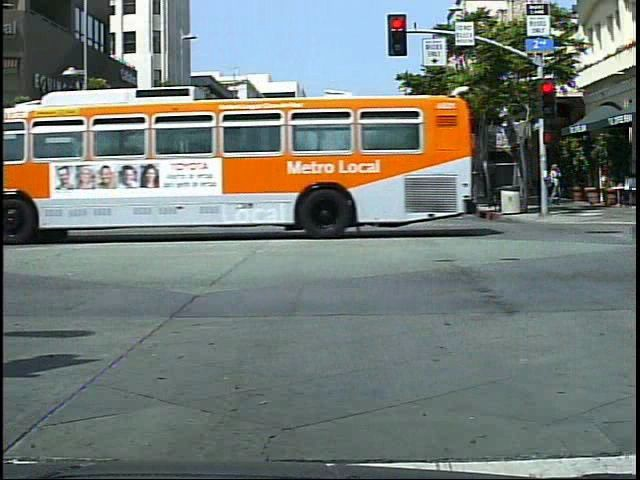person: (276, 165, 308, 229), (174, 168, 204, 234), (351, 166, 381, 230), (548, 160, 571, 204)
